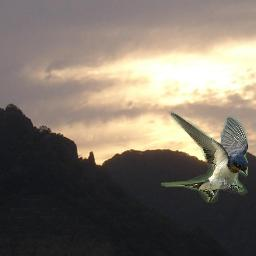Swallow: (161, 110, 248, 203)
